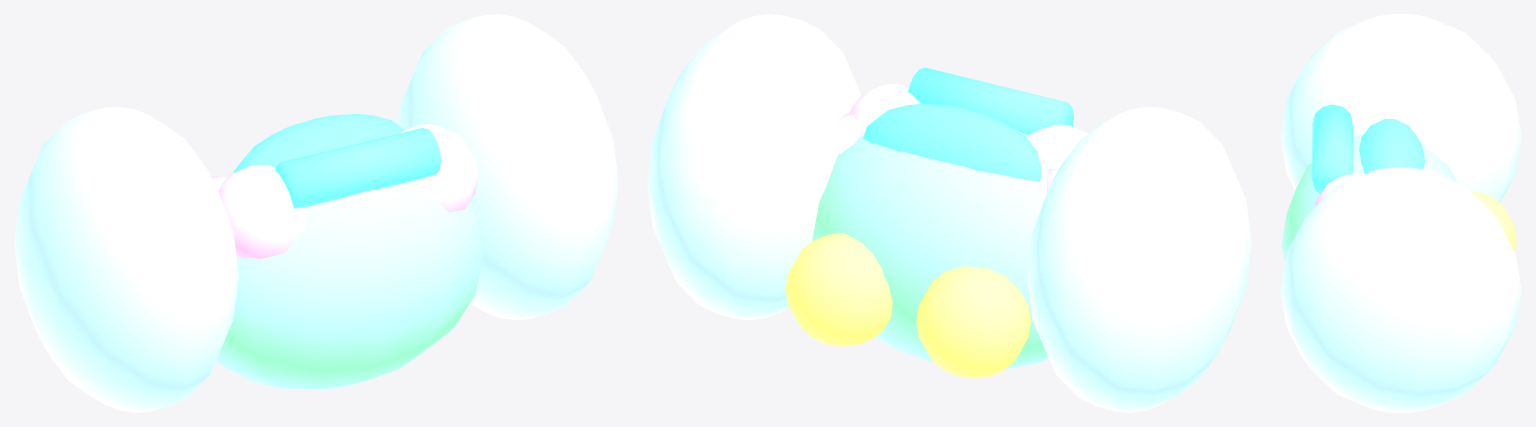
The model's file is drosophila_brain.glb.
3 renders of one model, left to right at view 1: azimuth 30°, elevation 25°; view 2: azimuth 150°, elevation 25°; view 3: azimuth 270°, elevation 25°, orthographic. The views are drawn at different scales.
Visible parts, largest first — view 1: OpticLobe_L, OpticLobe_R, Central_Protocerebrum, CX_ProtocerebralBridge, MushroomBody_L, CX_FanShapedBody, MushroomBody_R; view 2: OpticLobe_L, OpticLobe_R, Central_Protocerebrum, AntennalLobe_L, AntennalLobe_R, CX_FanShapedBody, CX_ProtocerebralBridge, MushroomBody_R, MushroomBody_L; view 3: OpticLobe_R, OpticLobe_L, CX_ProtocerebralBridge, CX_FanShapedBody, Central_Protocerebrum, MushroomBody_L, AntennalLobe_L, MushroomBody_R.
Boxes of the visible parts, left/top/right/bottom form: OpticLobe_L: left=14, top=106, right=238, bottom=412; OpticLobe_R: left=397, top=14, right=618, bottom=320; Central_Protocerebrum: left=216, top=172, right=483, bottom=389; CX_ProtocerebralBridge: left=275, top=128, right=440, bottom=208; MushroomBody_L: left=211, top=164, right=306, bottom=258; CX_FanShapedBody: left=233, top=114, right=404, bottom=173; MushroomBody_R: left=400, top=123, right=478, bottom=212; OpticLobe_L: left=1027, top=106, right=1251, bottom=412; OpticLobe_R: left=647, top=14, right=861, bottom=320; Central_Protocerebrum: left=812, top=130, right=1048, bottom=368; AntennalLobe_L: left=916, top=266, right=1031, bottom=378; AntennalLobe_R: left=785, top=232, right=892, bottom=346; CX_FanShapedBody: left=863, top=103, right=1041, bottom=181; CX_ProtocerebralBridge: left=908, top=67, right=1073, bottom=135; MushroomBody_R: left=834, top=84, right=920, bottom=153; MushroomBody_L: left=1026, top=124, right=1087, bottom=191; OpticLobe_R: left=1280, top=167, right=1521, bottom=412; OpticLobe_L: left=1280, top=14, right=1521, bottom=202; CX_ProtocerebralBridge: left=1312, top=104, right=1353, bottom=193; CX_FanShapedBody: left=1359, top=119, right=1425, bottom=173; Central_Protocerebrum: left=1281, top=134, right=1457, bottom=262; MushroomBody_L: left=1344, top=106, right=1403, bottom=136; AntennalLobe_L: left=1471, top=191, right=1516, bottom=250; MushroomBody_R: left=1314, top=173, right=1364, bottom=206.
Size of the model in its own units: 0.4609 by 0.2397 by 0.2125.
